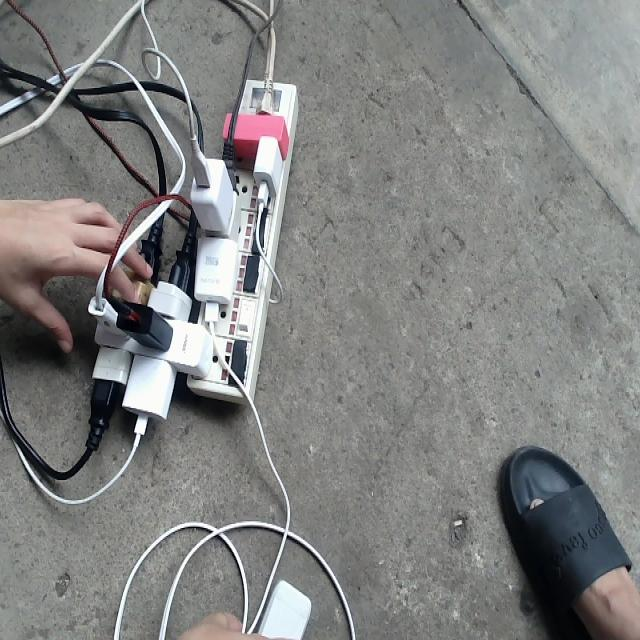-: (86, 69, 300, 419)
